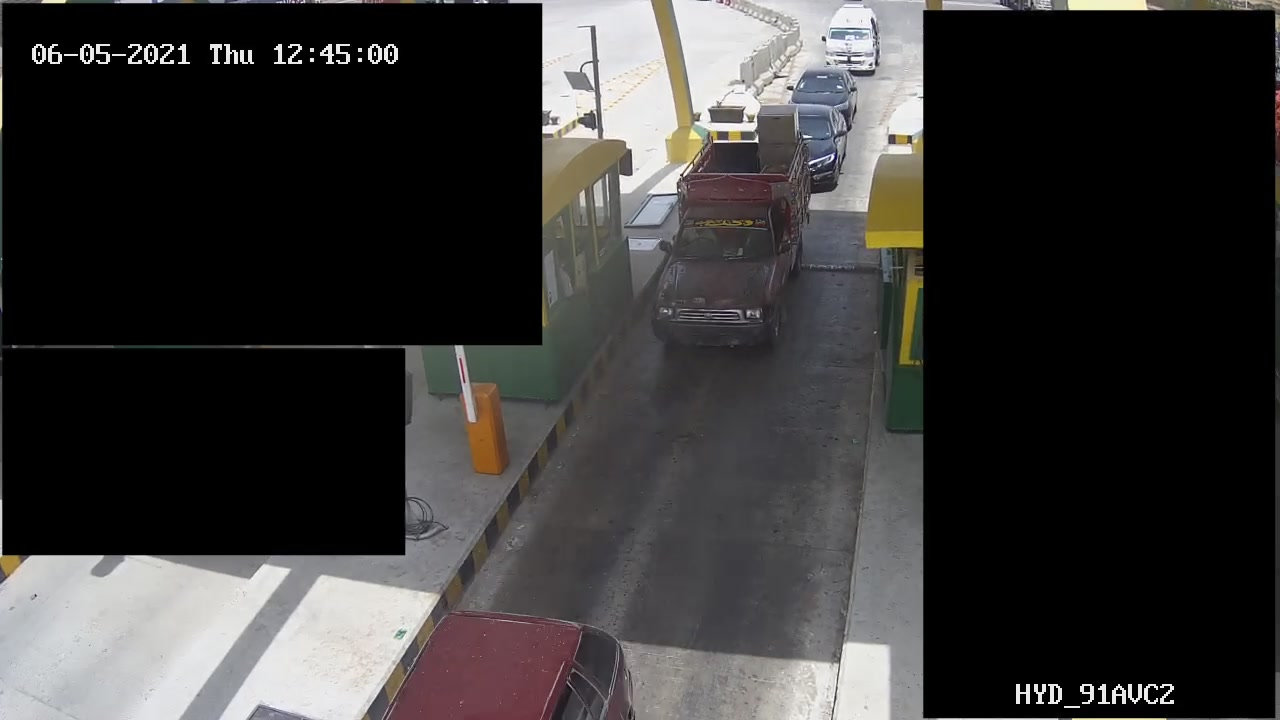F1: (642, 128, 821, 359)
